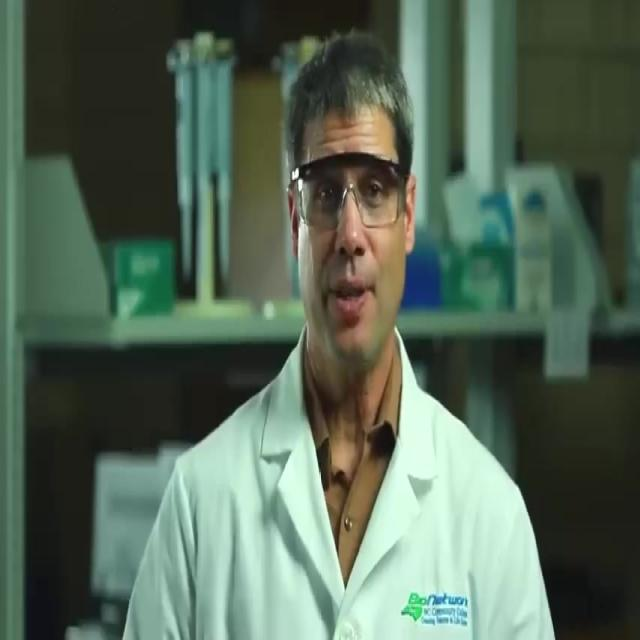googles: (294, 145, 407, 230)
labcoat: (124, 317, 556, 640)
